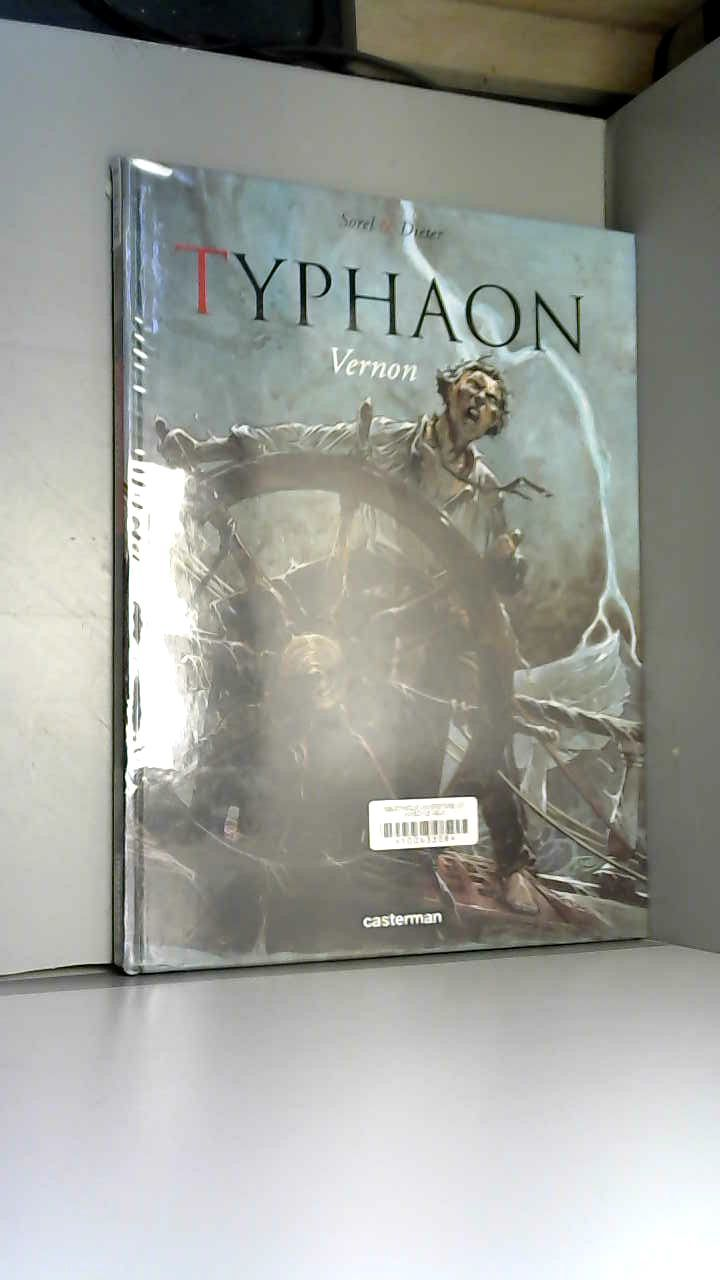book: (81, 126, 683, 1006)
